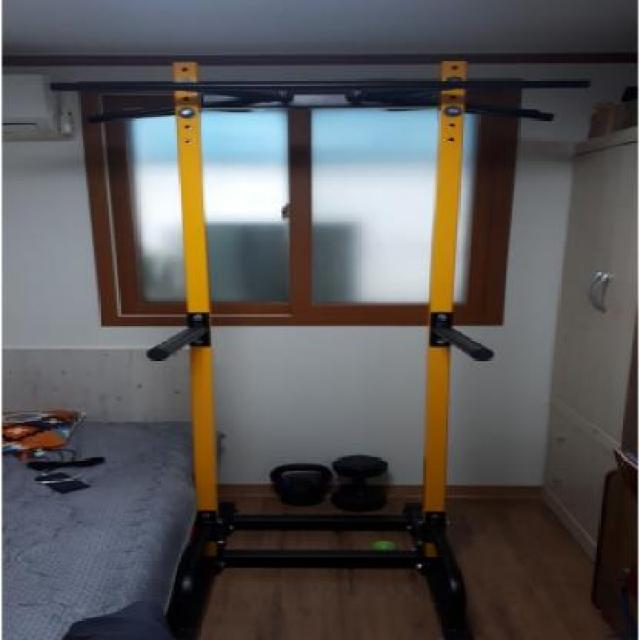chinning dipping: (57, 55, 594, 640)
